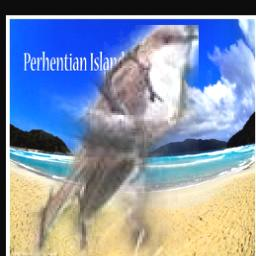Cuckoo: (11, 26, 199, 256)
